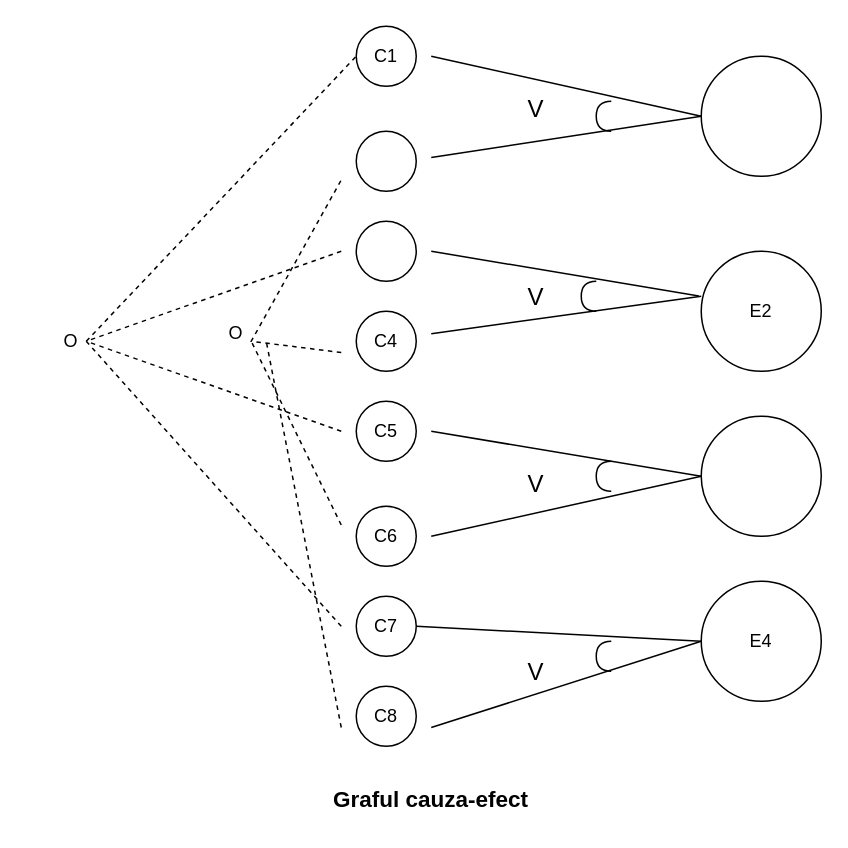
Image size: 848x848. Some labels were removed from this diagram. The shapes that lost their labels are listed below. From the top down, each one's centre as x and y in pixels, then its label:
pixel 760 115: E1
pixel 385 160: C2
pixel 385 250: C3
pixel 760 475: E3
